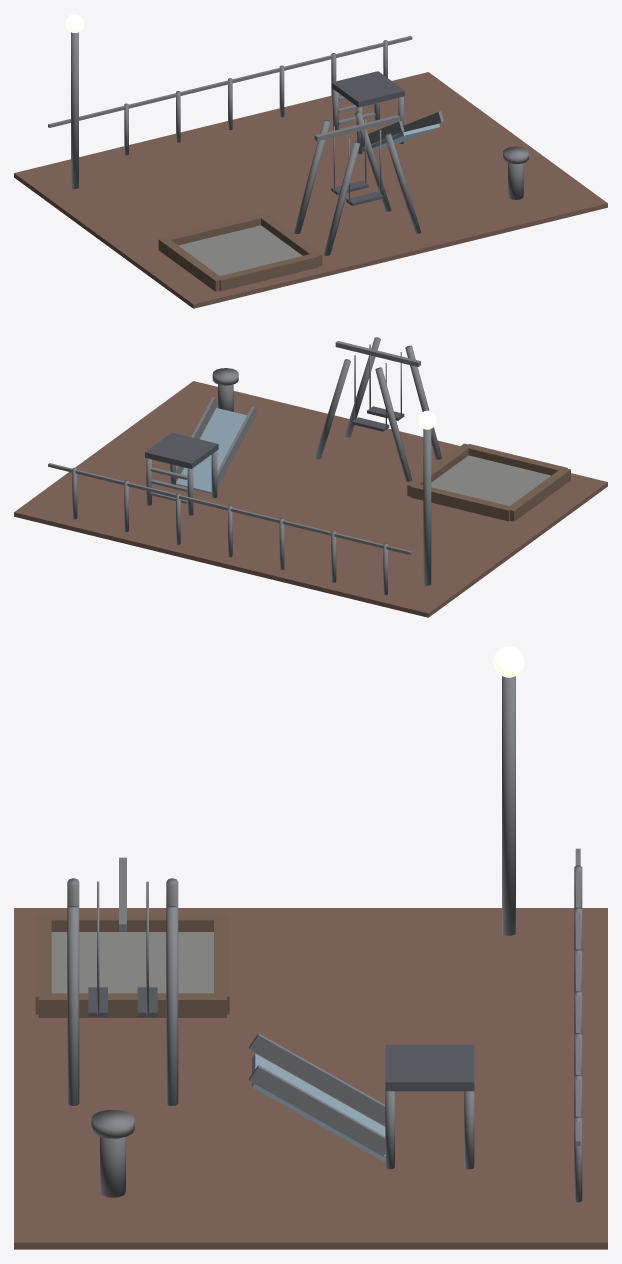
Rendered from prop_jido_kouen.glb.
3 renders of one model, top to bottom at view 1: azimuth 30°, elevation 25°; view 2: azimuth 150°, elevation 25°; view 3: azimuth 270°, elevation 25°, orthographic. The views are drawn at different scales.
Parts seen in each view (by area): view 1: jido_kouen; view 2: jido_kouen; view 3: jido_kouen.
Part boxes in pixels (x1,y1,x2,y2): jido_kouen: (14, 14, 607, 308); jido_kouen: (14, 337, 607, 617); jido_kouen: (14, 646, 607, 1249).
Size of the model in its own units: 8 by 3.28 by 6.
